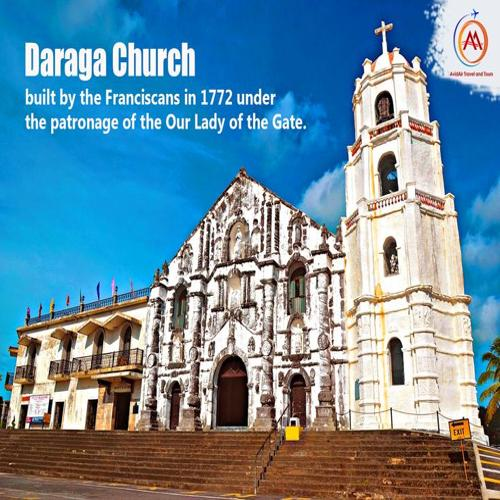Daraga Church: (145, 11, 495, 450)
